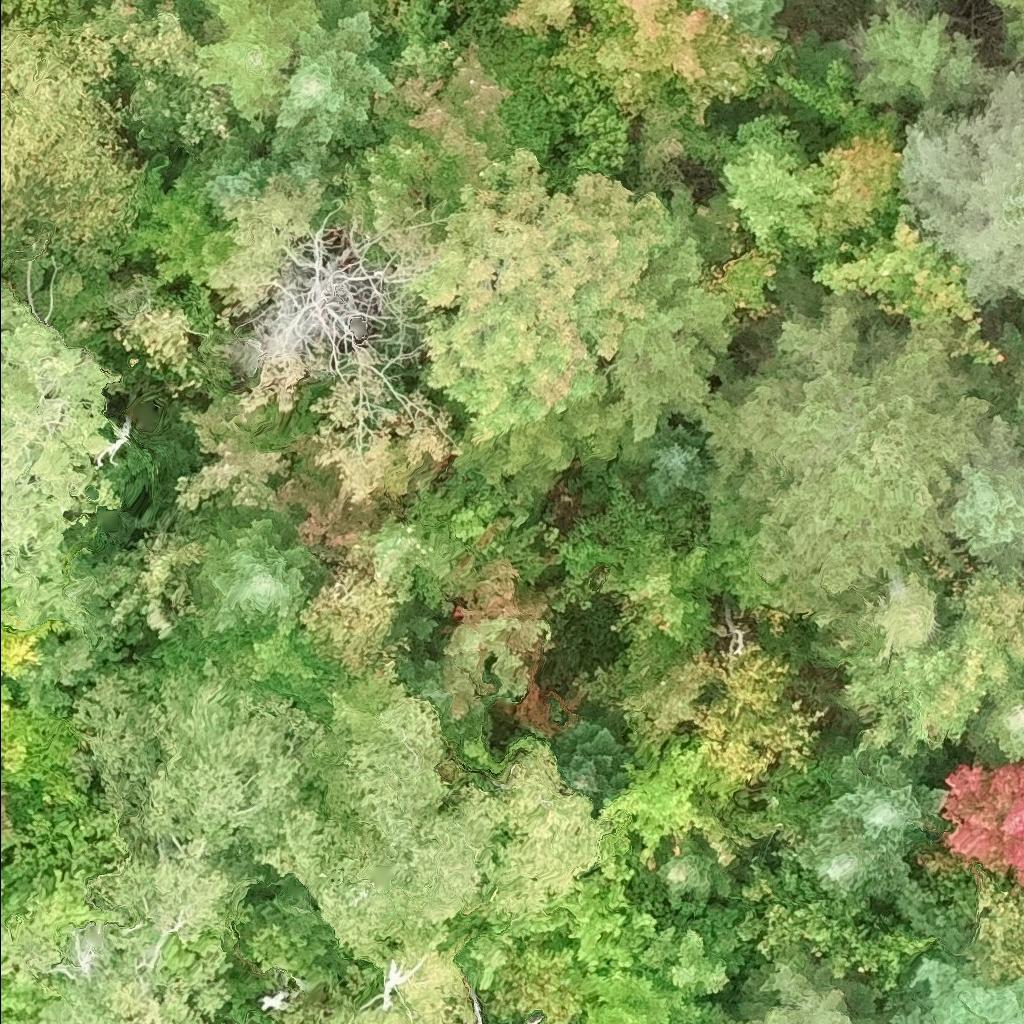crown: (700, 270, 992, 624), (407, 148, 681, 445), (72, 653, 324, 857), (255, 779, 513, 968), (0, 13, 168, 292), (333, 35, 523, 273), (0, 275, 123, 631), (807, 562, 1023, 759), (43, 834, 250, 1023), (606, 181, 740, 449), (895, 66, 1023, 307), (543, 0, 785, 127), (810, 214, 1005, 368), (242, 203, 420, 369), (147, 585, 356, 708), (297, 658, 452, 819), (595, 736, 754, 880), (477, 741, 604, 916), (434, 559, 561, 725), (272, 0, 396, 169), (450, 388, 625, 507), (711, 112, 839, 274), (302, 559, 450, 694), (185, 505, 316, 640), (194, 0, 318, 136), (413, 512, 562, 622), (279, 946, 473, 1023), (601, 527, 719, 653), (173, 390, 291, 514), (551, 859, 678, 973), (814, 743, 946, 851), (854, 3, 986, 109), (120, 177, 240, 287), (942, 417, 1023, 575), (804, 124, 901, 254), (270, 474, 382, 574), (937, 757, 1023, 887), (351, 510, 466, 604), (181, 116, 282, 215), (89, 0, 200, 87), (793, 823, 912, 904), (578, 966, 737, 1023), (547, 713, 632, 819), (889, 956, 1023, 1023), (734, 958, 867, 1023), (419, 470, 528, 542), (552, 516, 627, 613), (695, 524, 778, 611), (380, 0, 463, 85), (641, 417, 714, 511), (640, 837, 734, 908), (124, 73, 199, 152), (978, 316, 1023, 445), (964, 673, 1023, 766), (656, 926, 732, 996), (684, 0, 789, 40), (0, 620, 59, 680), (496, 0, 580, 39), (0, 971, 51, 1023), (283, 151, 341, 193), (413, 656, 452, 714), (988, 0, 1023, 61), (577, 0, 619, 33), (0, 878, 11, 936), (0, 682, 13, 722), (380, 0, 406, 18), (878, 0, 904, 8), (93, 0, 108, 3), (466, 0, 478, 3), (451, 0, 454, 1), (282, 169, 283, 169)
